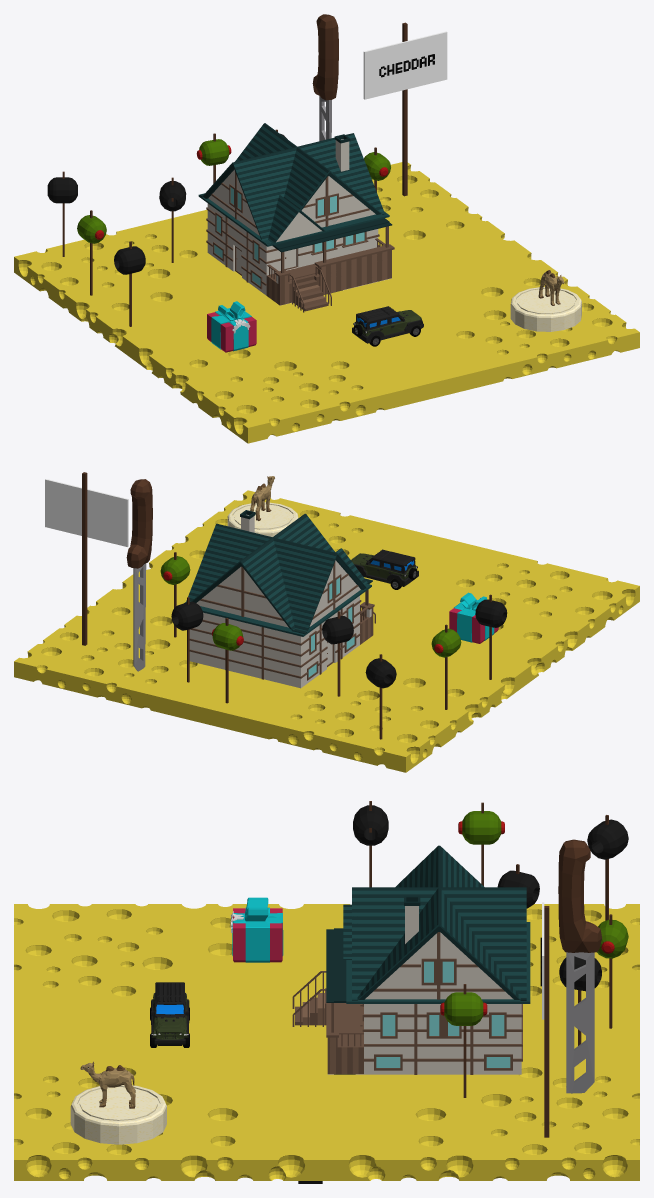
The picture shows the model from 3 angles, top to bottom: view 1: azimuth 30°, elevation 25°; view 2: azimuth 150°, elevation 25°; view 3: azimuth 270°, elevation 25°; orthographic projection. The views are drawn at different scales.
Visible parts, largest first — view 1: Cube.022, Cube.793, Cube.023, Cylinder.016, Cube.024, OBJRANDOM_GIANT_PRESENT, VEHICLES_JEEP, Sphere.017, Sphere.016, Sphere.020, Sphere.018, Sphere.022 (+1 smaller); view 2: Cube.022, Cube.793, Cube.023, Cube.024, VEHICLES_JEEP, Cylinder.016, OBJRANDOM_GIANT_PRESENT, Sphere.020, Sphere.016, Sphere.022, Sphere.017, Sphere.021 (+3 smaller); view 3: Cube.022, Cube.793, Cube.024, Cylinder.016, OBJRANDOM_GIANT_PRESENT, VEHICLES_JEEP, Cube.023, Sphere.019, Sphere.016, Sphere.018, Sphere.017, Sphere.022 (+3 smaller).
Part boxes in pixels (left/top/right/bottom): Cube.022: left=14, top=162, right=639, bottom=443; Cube.793: left=198, top=123, right=394, bottom=312; Cube.023: left=363, top=22, right=447, bottom=196; Cylinder.016: left=510, top=287, right=581, bottom=331; Cube.024: left=312, top=14, right=338, bottom=141; OBJRANDOM_GIANT_PRESENT: left=207, top=301, right=256, bottom=352; VEHICLES_JEEP: left=352, top=306, right=423, bottom=346; Sphere.017: left=114, top=241, right=145, bottom=326; Sphere.016: left=47, top=171, right=77, bottom=256; Sphere.020: left=159, top=177, right=186, bottom=262; Sphere.018: left=77, top=210, right=106, bottom=295; Sphere.022: left=196, top=133, right=231, bottom=183; Cube.022: left=14, top=490, right=639, bottom=772; Cube.793: left=184, top=510, right=375, bottom=688; Cube.023: left=45, top=472, right=128, bottom=645; Cube.024: left=126, top=479, right=152, bottom=671; VEHICLES_JEEP: left=351, top=549, right=418, bottom=589; Cylinder.016: left=227, top=502, right=298, bottom=536; OBJRANDOM_GIANT_PRESENT: left=449, top=592, right=498, bottom=643; Sphere.020: left=322, top=611, right=353, bottom=696; Sphere.016: left=365, top=654, right=396, bottom=739; Sphere.022: left=212, top=618, right=243, bottom=703; Sphere.017: left=475, top=594, right=507, bottom=679; Sphere.021: left=171, top=597, right=203, bottom=682; Cube.022: left=14, top=904, right=639, bottom=1180; Cube.793: left=292, top=845, right=530, bottom=1074; Cube.024: left=558, top=839, right=601, bottom=1093; Cylinder.016: left=70, top=1085, right=166, bottom=1144; OBJRANDOM_GIANT_PRESENT: left=230, top=897, right=283, bottom=962; VEHICLES_JEEP: left=150, top=982, right=189, bottom=1047; Cube.023: left=540, top=902, right=549, bottom=1137; Sphere.019: left=440, top=984, right=487, bottom=1097; Sphere.016: left=587, top=815, right=628, bottom=920; Sphere.018: left=458, top=802, right=504, bottom=885; Sphere.017: left=353, top=801, right=388, bottom=887; Sphere.022: left=597, top=914, right=628, bottom=1028.
Bounding box in the file's own units: 3917 × 2015 × 4000.
30 materials, 4 textured.
